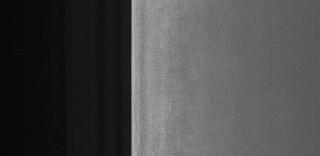silk spot: (156, 23, 194, 100)
